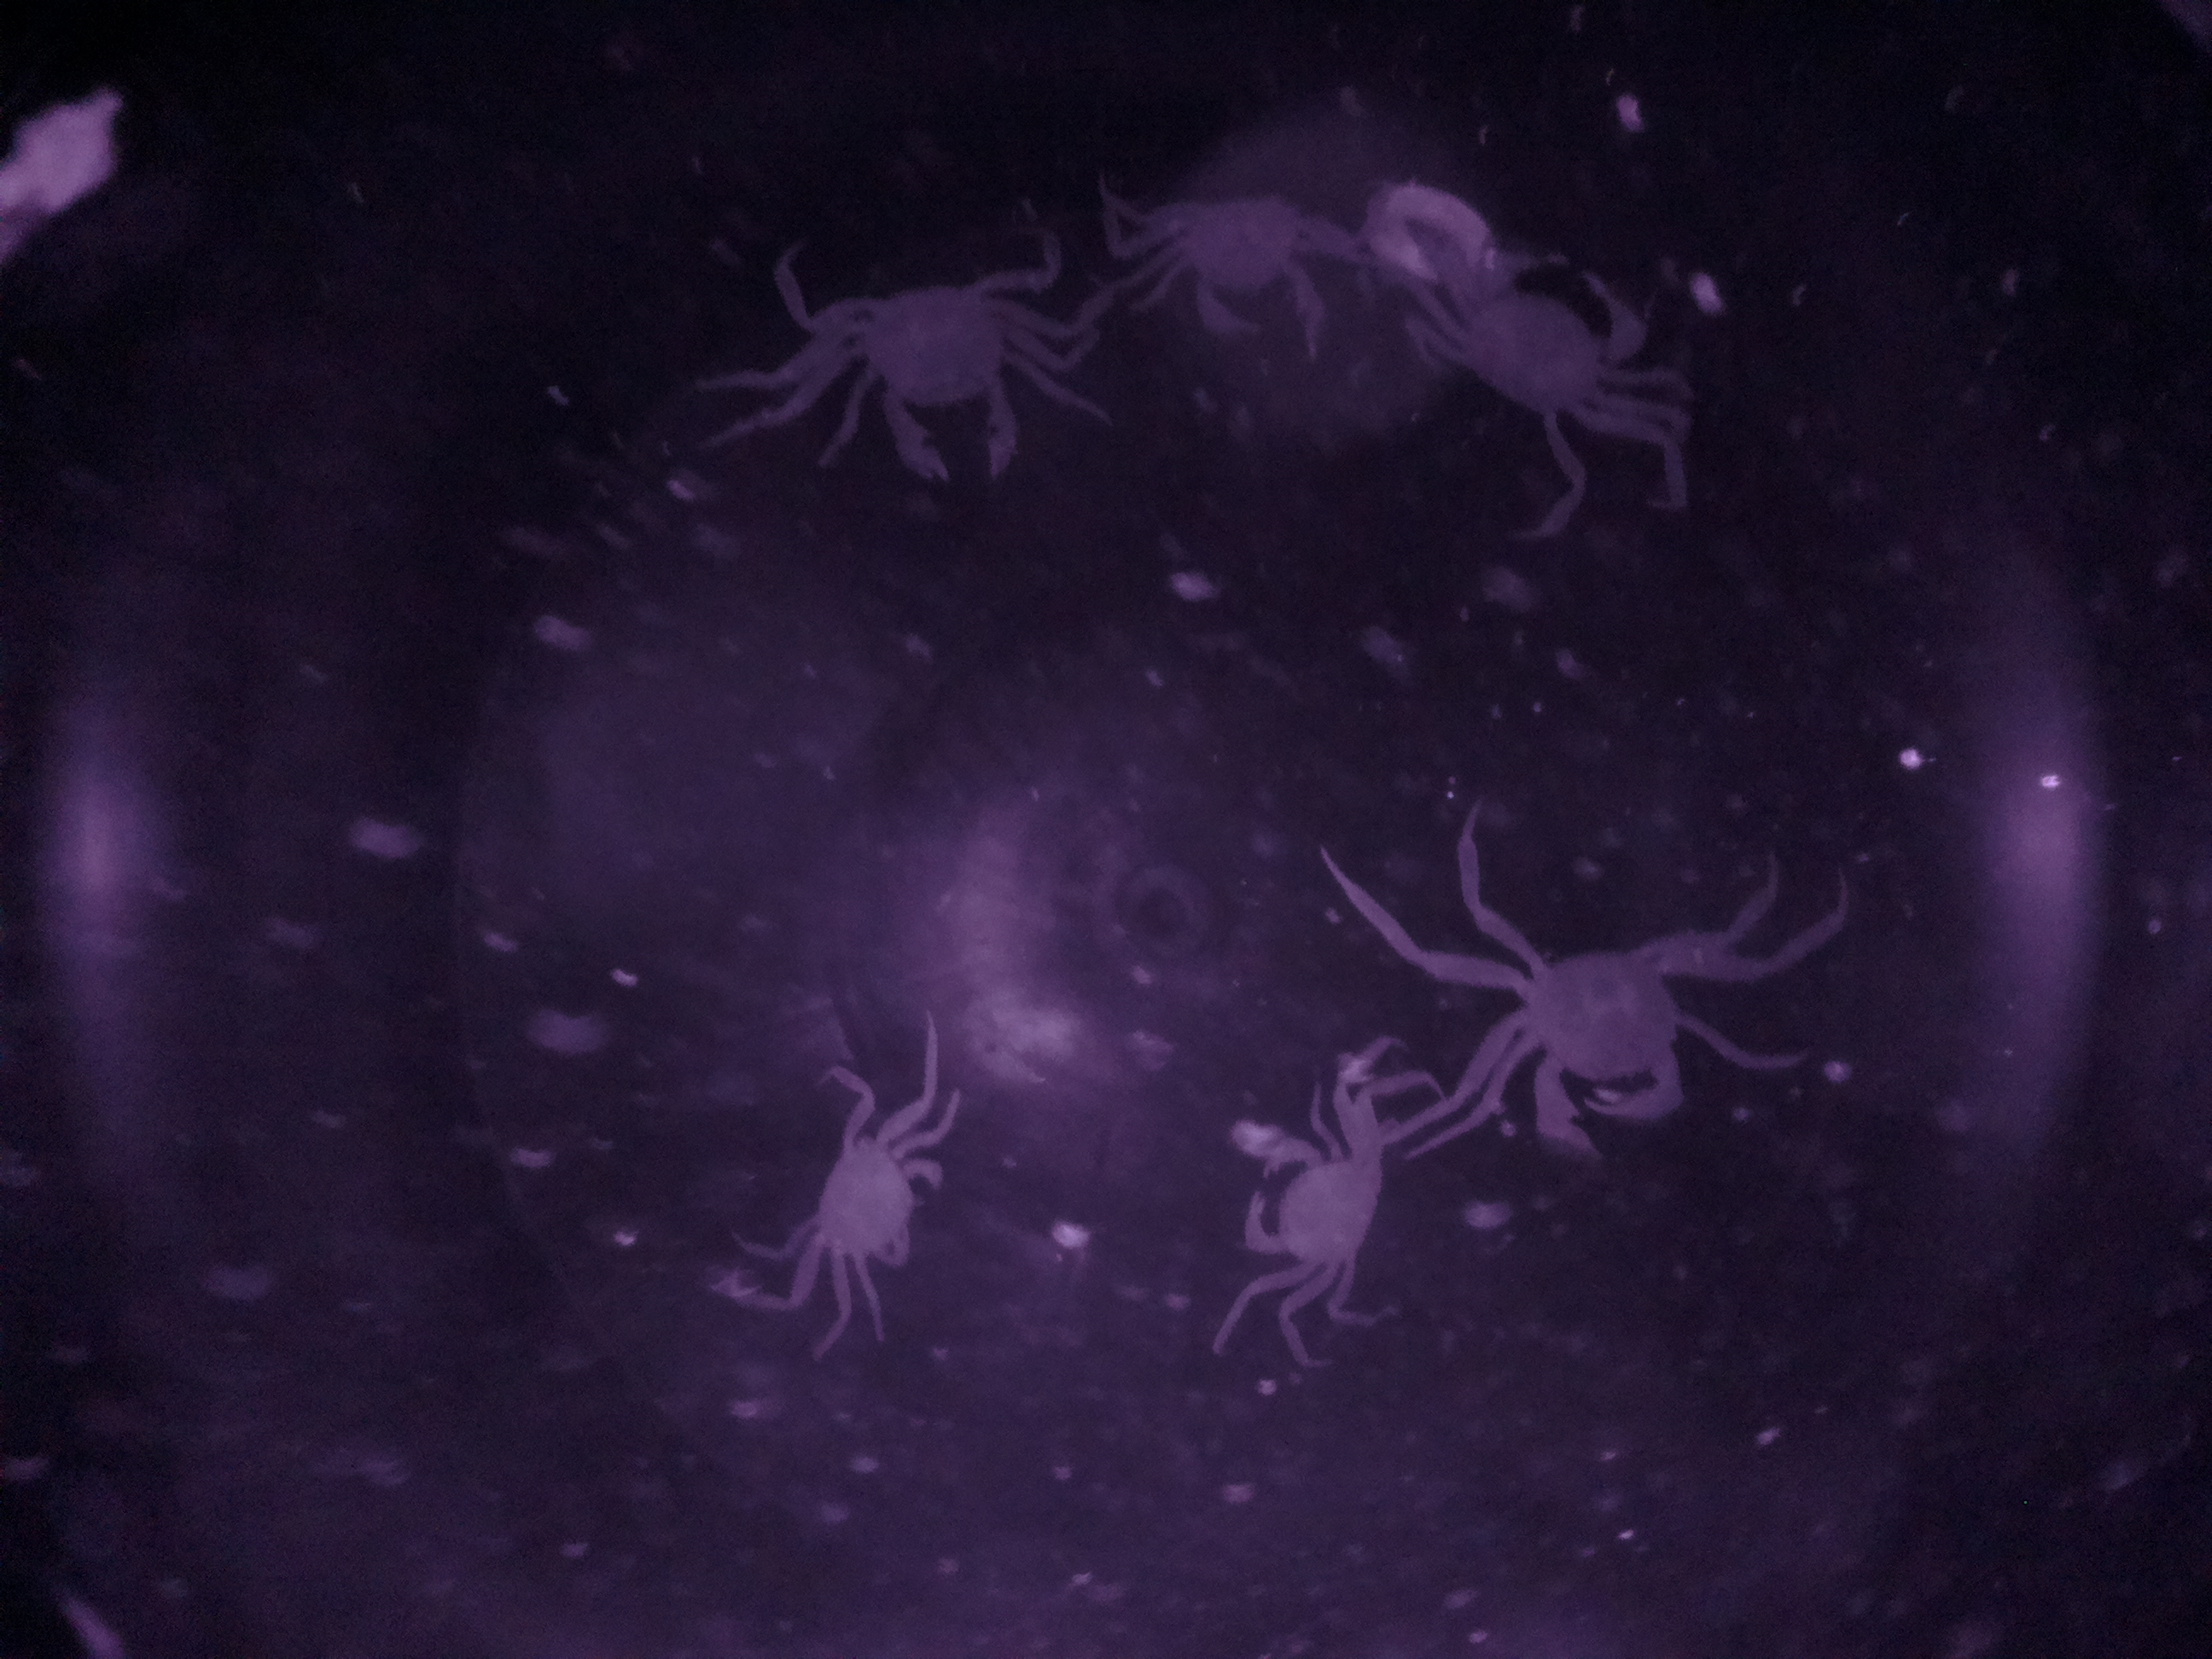Crab: (794, 244, 1099, 509), (1474, 908, 1731, 1169), (1447, 220, 1658, 455), (1219, 1086, 1404, 1310), (791, 1101, 951, 1307)
